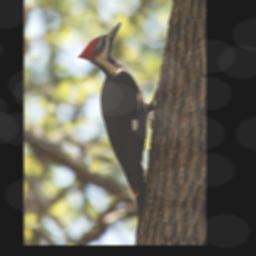Woodpecker: (77, 21, 168, 237)
